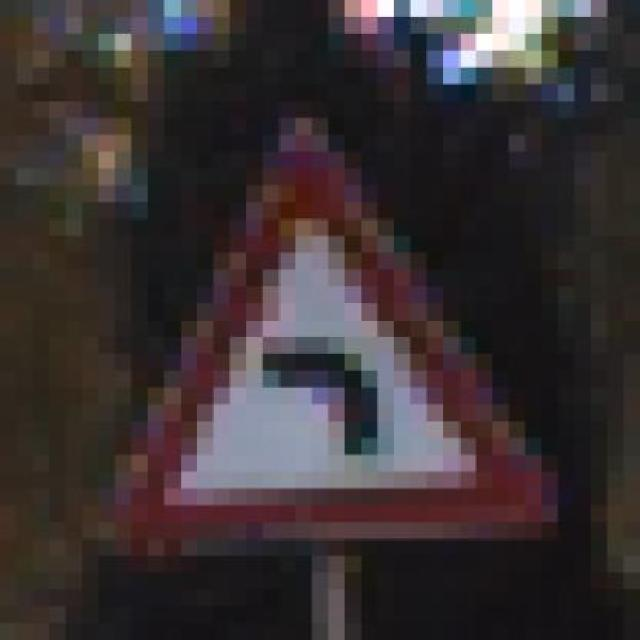Dangerous Left Curve Ahead: (66, 101, 574, 556)
